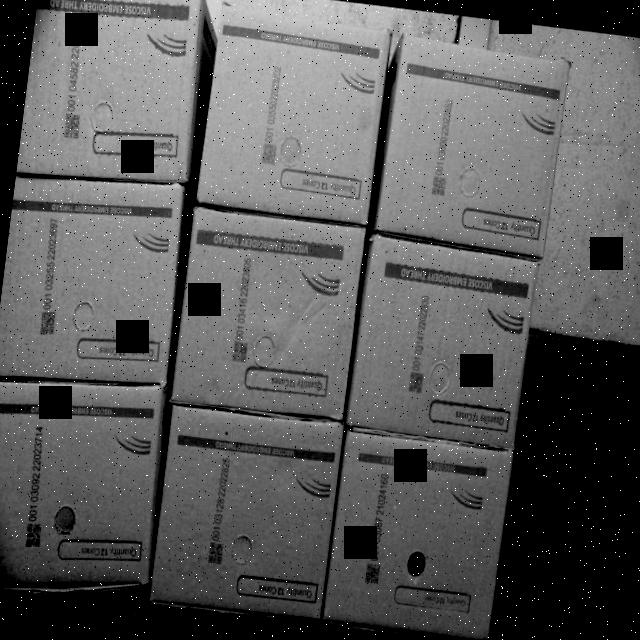box: (52, 378, 257, 628), (33, 139, 236, 371), (196, 2, 396, 228), (373, 28, 567, 258), (347, 231, 538, 461), (170, 206, 366, 420), (15, 0, 207, 196), (61, 380, 63, 390)
